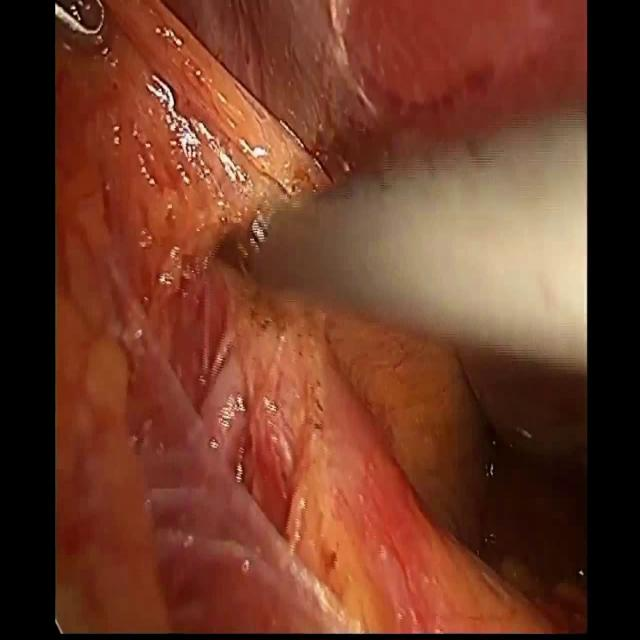surgical-area: (56, 0, 586, 634)
surgical-tool: (212, 102, 586, 375), (55, 0, 118, 54)
